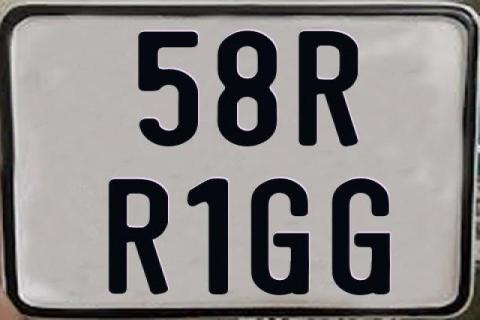0: (215, 29, 279, 147), (137, 30, 197, 148), (185, 176, 227, 295)
G: (331, 178, 395, 294), (250, 177, 310, 296)
R: (108, 180, 170, 300), (299, 29, 360, 148)
